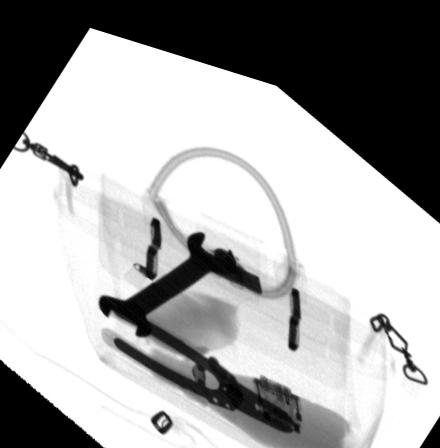Pliers: (110, 296, 294, 415)
Wrench: (99, 220, 237, 329)
